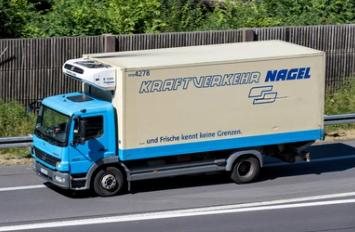vehicle: (27, 40, 326, 196)
